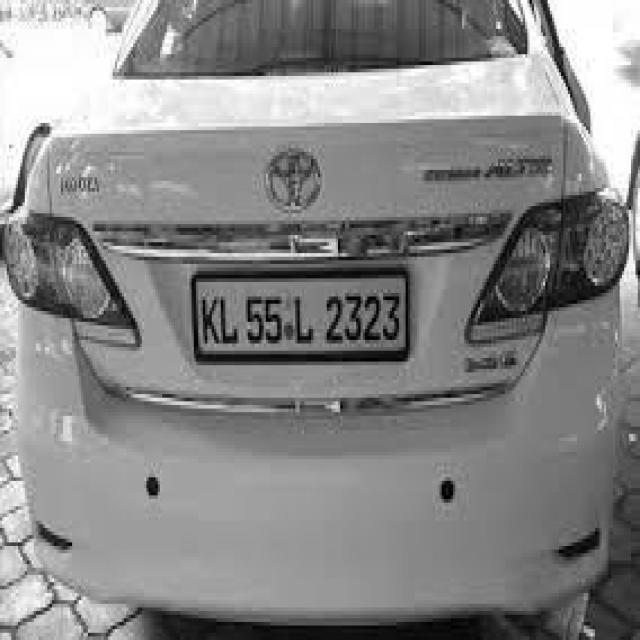license-plate: (198, 278, 401, 358)
